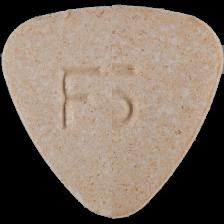54868-5944: (0, 0, 224, 224)
